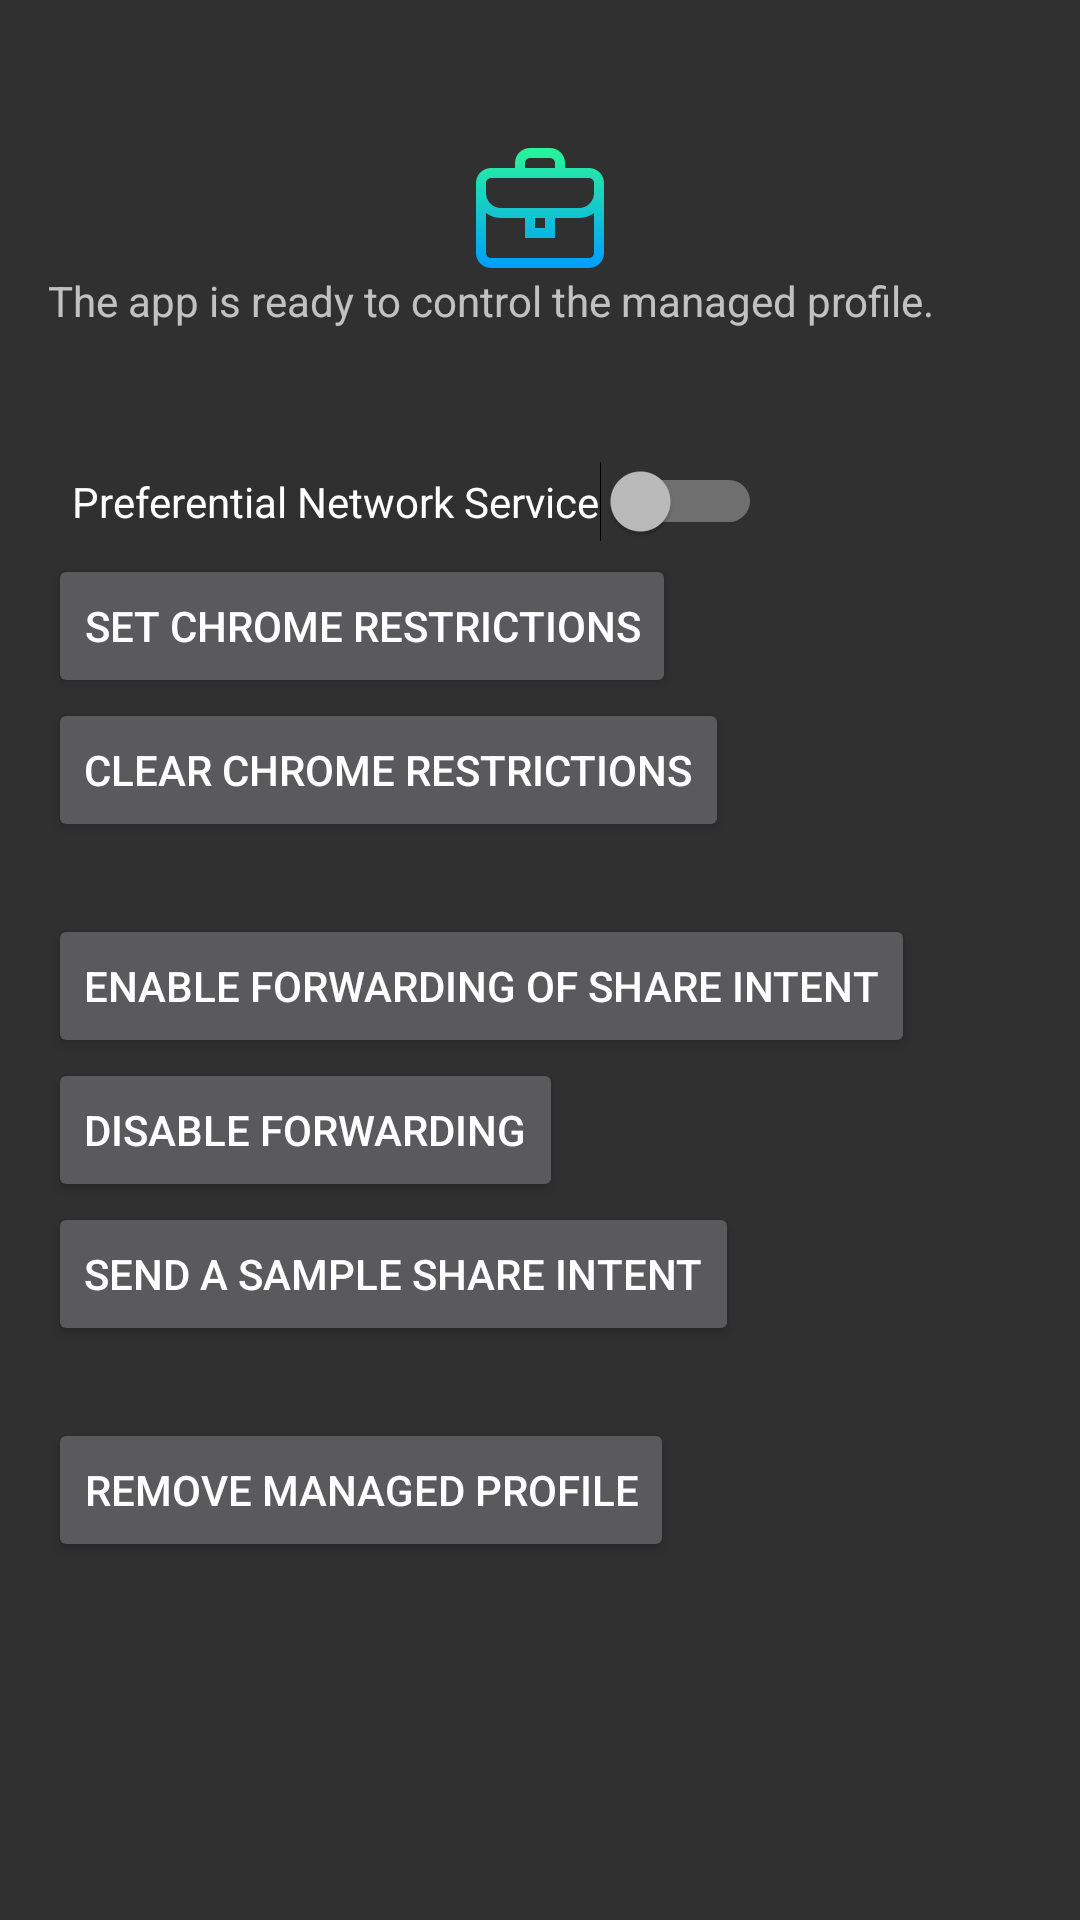

Icons on this 1080×1920 Android screen, each with the point to tap as (x=x, y=y):
portfolio: (x=540, y=208)
